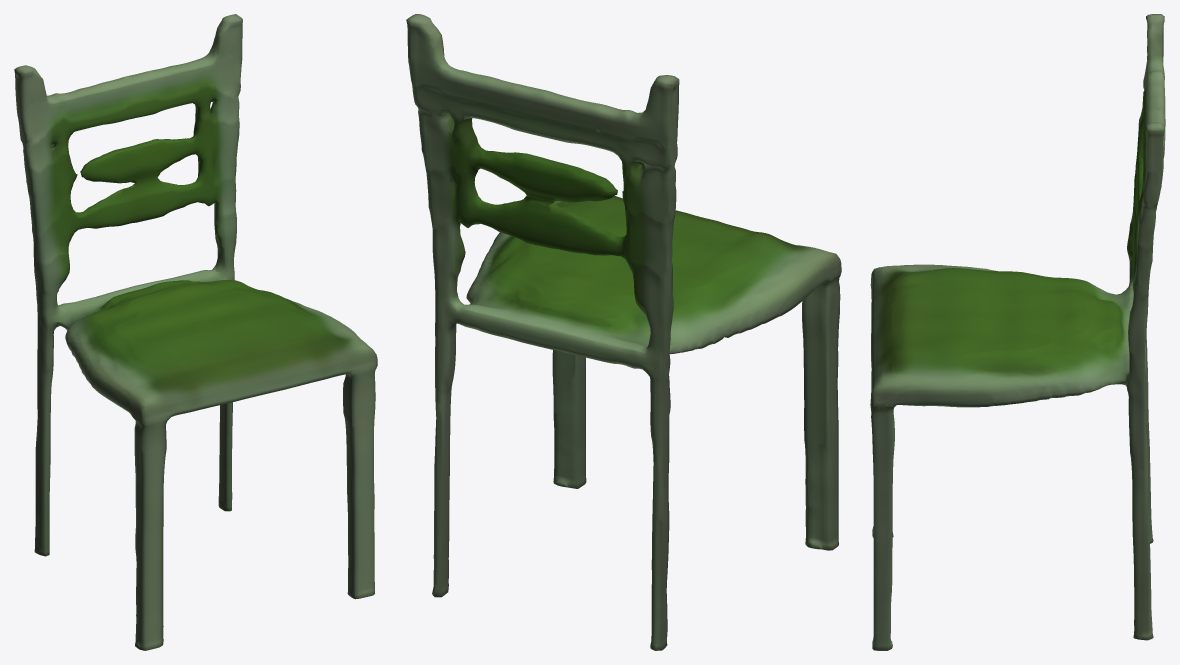
Rendered from A wooden chair with pale green polishing on it..glb.
3 renders of one model, left to right at view 1: azimuth 30°, elevation 25°; view 2: azimuth 150°, elevation 25°; view 3: azimuth 270°, elevation 25°, orthographic. The views are drawn at different scales.
Parts seen in each view (by area): view 1: A wooden chair with pale green polishing on it.; view 2: A wooden chair with pale green polishing on it.; view 3: A wooden chair with pale green polishing on it..
Part boxes in pixels (bbox=[...]): A wooden chair with pale green polishing on it.: bbox=[14, 14, 377, 650]; A wooden chair with pale green polishing on it.: bbox=[406, 14, 841, 650]; A wooden chair with pale green polishing on it.: bbox=[870, 14, 1165, 650].
Bounding box in the file's own units: 1.03 × 1.98 × 1.02.
